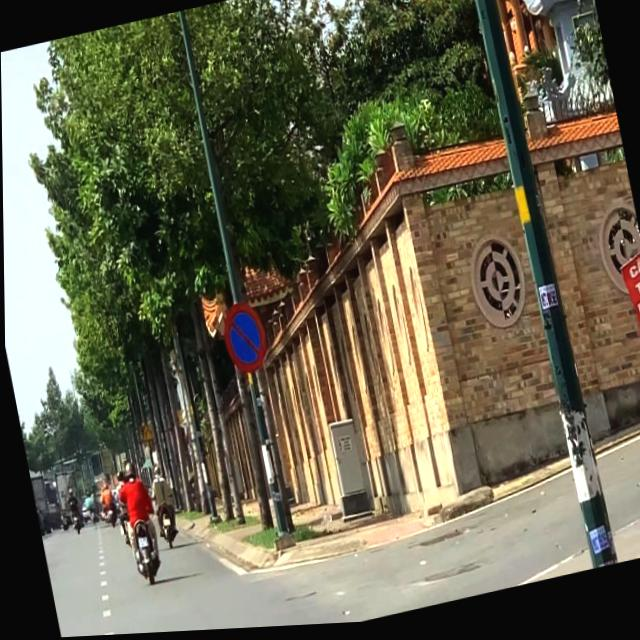Cam do xe: (216, 301, 274, 385)
cho ngoat nguy hiem vong ben phai: (136, 422, 154, 450)
